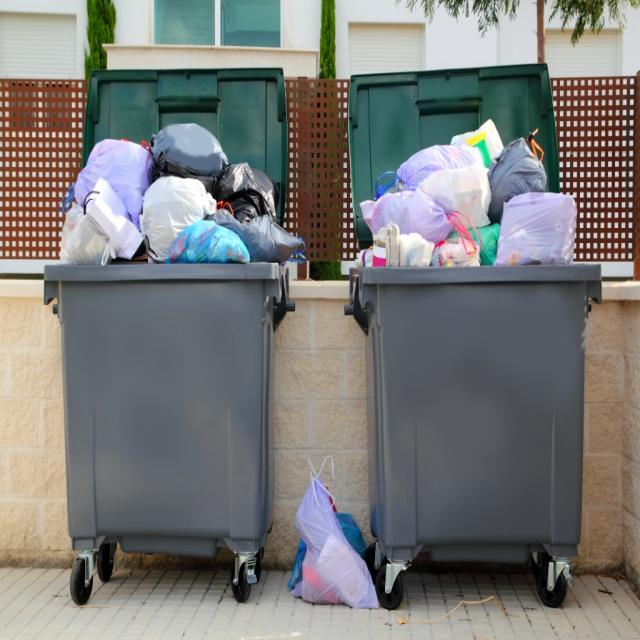bin: (344, 263, 605, 610), (44, 263, 295, 605), (347, 62, 558, 250), (82, 67, 288, 228)
trash: (54, 123, 306, 267), (356, 118, 577, 267), (286, 455, 379, 609)
